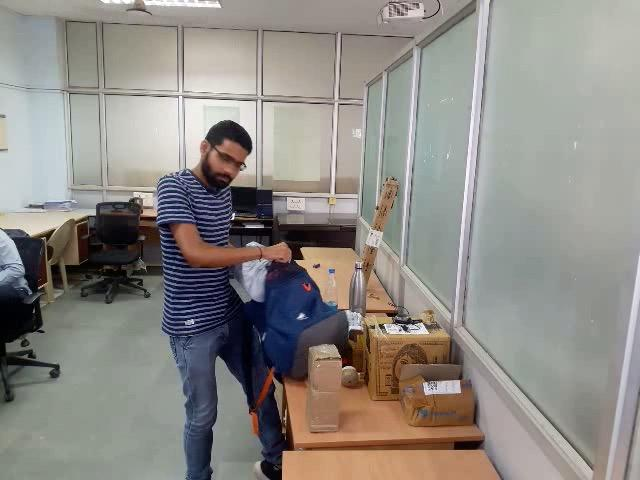shoplifting: (238, 229, 359, 379)
